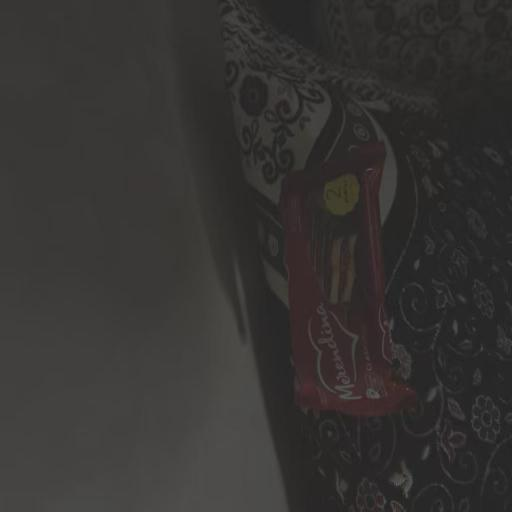merendina: (275, 136, 428, 422)
